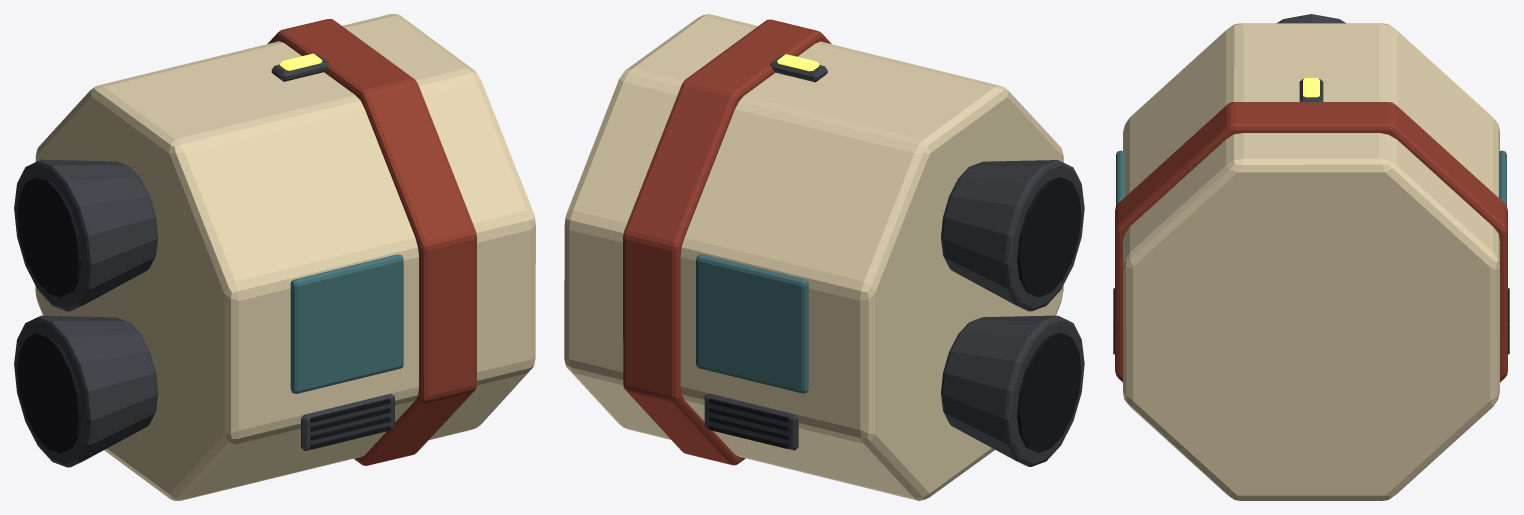
The model's file is cruise-mk1.glb.
3 views of the same model, side by side, from view 1: azimuth 30°, elevation 25°; view 2: azimuth 150°, elevation 25°; view 3: azimuth 270°, elevation 25° (orthographic). The views are drawn at different scales.
Parts seen in each view (by area): view 1: cruise_mk1 body; view 2: cruise_mk1 body; view 3: cruise_mk1 body.
Part boxes in pixels (left/top/right/bottom): cruise_mk1 body: left=14, top=14, right=535, bottom=500; cruise_mk1 body: left=564, top=14, right=1084, bottom=500; cruise_mk1 body: left=1113, top=14, right=1509, bottom=500.
Size of the model in its own units: 2.53 by 2.35 by 2.33.
